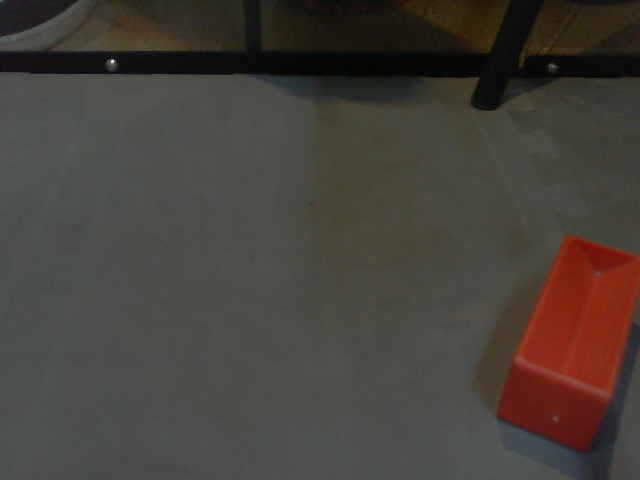RedSample: (495, 232, 639, 457)
